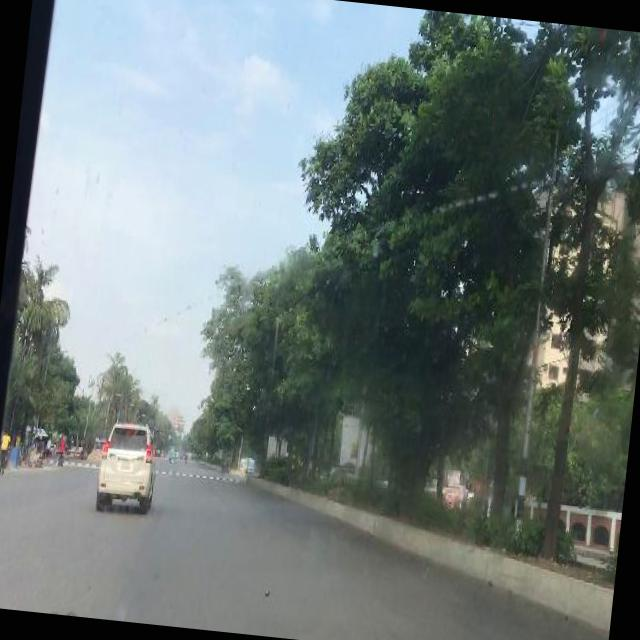car: (90, 416, 160, 520)
motorcycle: (217, 449, 232, 473)
